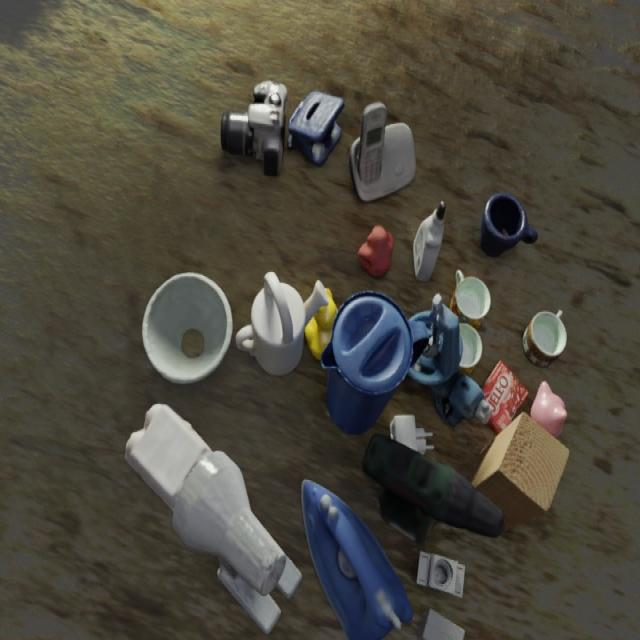Other Objects: (126, 404, 300, 631), (301, 480, 412, 639), (321, 291, 412, 433), (471, 412, 568, 531), (142, 272, 232, 383), (235, 272, 327, 375), (349, 101, 415, 201), (221, 81, 286, 175), (288, 91, 343, 165), (480, 192, 536, 256), (482, 360, 528, 433), (522, 311, 566, 365), (413, 201, 443, 280), (450, 269, 490, 325), (417, 552, 463, 596), (530, 381, 566, 436), (357, 225, 393, 277), (390, 415, 433, 453), (420, 609, 463, 639)
